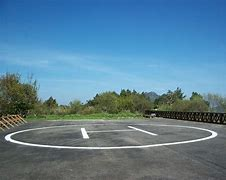H: (81, 126, 159, 139)
